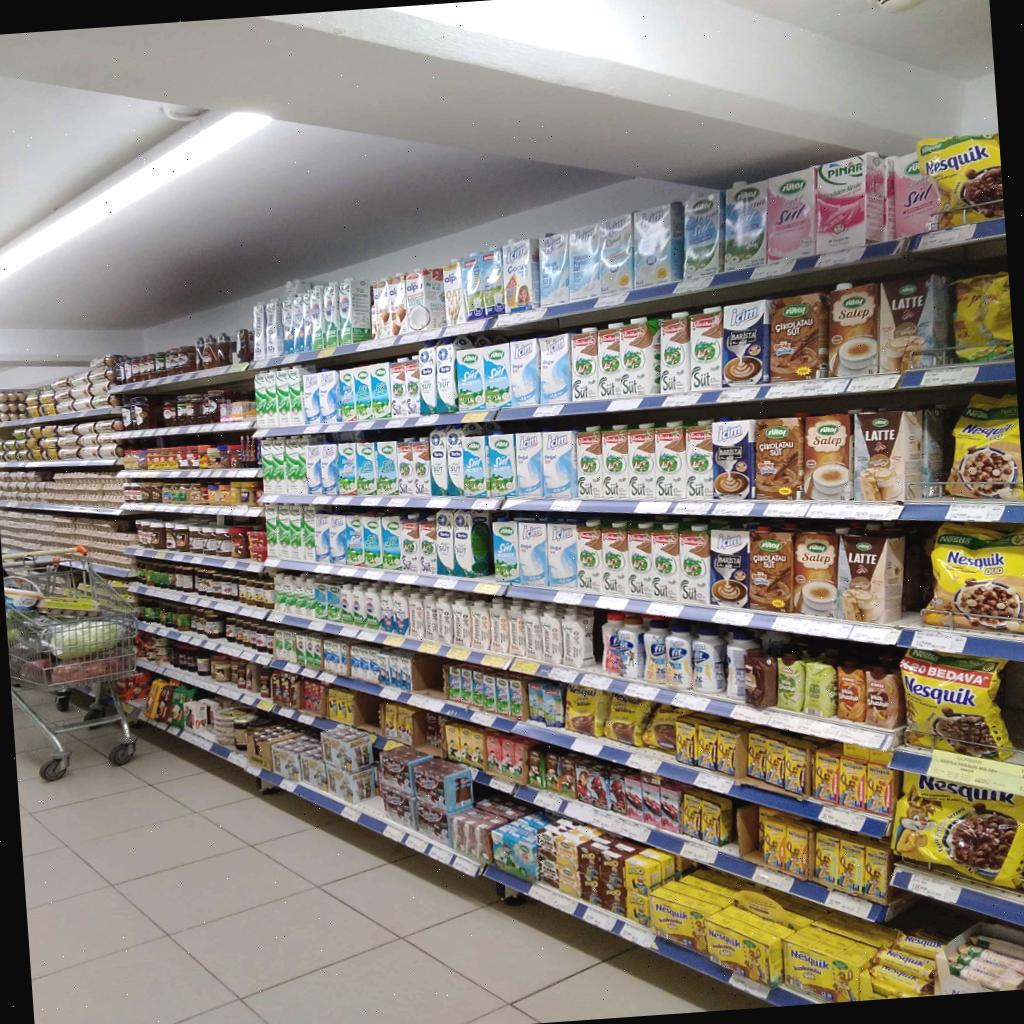price_tag: (826, 890, 872, 919), (530, 885, 577, 913), (604, 816, 652, 842), (728, 971, 770, 1000), (818, 806, 865, 831), (494, 308, 545, 330), (843, 502, 902, 520), (752, 867, 794, 892), (849, 625, 900, 645), (620, 920, 655, 949), (750, 258, 796, 280), (816, 247, 864, 268), (848, 374, 900, 393), (590, 591, 630, 614), (408, 691, 444, 716), (681, 840, 718, 864), (583, 907, 618, 931), (800, 619, 846, 637), (673, 274, 714, 294), (566, 801, 600, 823), (672, 692, 709, 712), (763, 501, 809, 517), (718, 386, 761, 403), (772, 614, 808, 633), (627, 753, 663, 772), (713, 609, 753, 626), (731, 704, 766, 723), (810, 378, 849, 395), (451, 855, 481, 877), (534, 791, 564, 812), (593, 291, 628, 309), (571, 737, 604, 756), (662, 392, 703, 407), (672, 501, 712, 516), (382, 821, 406, 846), (625, 683, 659, 700), (806, 503, 842, 519), (424, 494, 456, 512), (468, 496, 500, 514), (647, 602, 682, 618), (474, 576, 502, 596), (395, 330, 432, 345), (578, 674, 612, 690), (463, 316, 488, 337), (427, 845, 454, 864), (549, 666, 577, 684), (354, 418, 378, 438), (607, 397, 641, 411), (394, 570, 420, 588), (511, 658, 540, 674), (442, 321, 464, 342), (489, 777, 516, 794), (480, 654, 511, 668), (406, 835, 429, 853), (551, 499, 582, 512), (471, 711, 497, 726), (553, 592, 583, 605), (335, 494, 356, 512), (534, 404, 563, 417), (447, 646, 471, 661), (462, 411, 492, 423), (378, 682, 400, 698), (410, 414, 438, 426), (340, 806, 361, 822), (358, 338, 376, 356), (302, 422, 325, 436), (310, 618, 333, 632), (364, 567, 384, 583), (279, 353, 303, 366), (324, 421, 347, 434), (314, 493, 335, 507), (315, 562, 333, 578), (386, 416, 406, 430), (340, 564, 360, 578), (434, 577, 457, 589), (279, 779, 298, 793), (418, 642, 440, 654), (385, 634, 405, 647), (377, 336, 395, 350), (262, 555, 280, 569), (318, 346, 337, 359), (387, 496, 409, 507), (340, 623, 356, 638), (364, 495, 382, 508), (321, 668, 334, 686), (303, 664, 318, 679), (251, 358, 269, 370), (268, 610, 286, 622), (298, 713, 315, 725), (284, 660, 301, 672), (254, 427, 272, 438), (362, 628, 372, 644), (263, 492, 278, 502)
product: (878, 274, 953, 373), (783, 926, 876, 1003), (706, 904, 792, 986), (816, 153, 885, 254), (853, 411, 924, 501), (837, 533, 904, 624), (769, 293, 828, 383), (828, 284, 879, 376), (885, 153, 938, 239), (768, 167, 815, 262), (633, 202, 684, 289), (754, 417, 805, 501), (804, 414, 853, 501), (722, 299, 770, 387), (412, 757, 474, 822), (793, 532, 839, 618), (651, 887, 710, 952), (724, 181, 767, 270), (749, 527, 794, 612), (491, 818, 547, 882), (683, 192, 724, 278), (711, 420, 755, 499), (451, 805, 508, 862), (710, 527, 750, 607), (620, 319, 660, 396), (379, 745, 436, 798), (597, 215, 634, 295), (690, 307, 723, 389), (678, 523, 711, 604), (503, 239, 539, 312), (568, 224, 602, 300), (655, 423, 688, 500), (403, 269, 443, 332), (604, 695, 654, 745), (651, 524, 683, 602), (865, 665, 904, 729), (725, 629, 760, 700), (454, 512, 491, 578), (660, 313, 690, 393), (542, 431, 577, 498), (446, 428, 480, 496), (539, 333, 572, 403), (508, 338, 541, 407), (539, 232, 569, 307), (323, 728, 373, 773), (693, 624, 726, 692), (566, 687, 611, 736), (273, 737, 322, 782), (628, 522, 657, 598), (685, 422, 713, 500), (338, 278, 371, 344), (546, 521, 577, 589), (577, 428, 606, 499), (602, 520, 629, 596), (602, 426, 630, 499), (628, 424, 655, 499), (596, 324, 623, 398), (572, 327, 599, 401), (481, 343, 511, 409), (517, 519, 546, 586), (577, 519, 603, 593), (327, 764, 375, 804), (665, 622, 693, 690), (514, 432, 543, 497), (486, 434, 516, 496), (837, 661, 867, 723), (457, 348, 486, 412), (745, 650, 777, 708), (804, 662, 837, 717), (562, 608, 593, 666), (492, 518, 520, 582), (865, 759, 896, 815), (480, 248, 505, 317), (699, 797, 734, 846), (837, 838, 868, 893), (777, 652, 805, 712), (617, 618, 645, 678), (643, 705, 677, 753), (442, 260, 467, 324), (644, 621, 669, 685), (863, 844, 891, 901), (462, 435, 487, 497), (416, 798, 450, 843), (436, 344, 458, 412), (381, 784, 415, 828), (461, 254, 484, 319), (716, 726, 747, 774), (812, 831, 839, 886), (784, 825, 812, 878), (813, 748, 839, 805), (522, 604, 548, 660), (838, 757, 866, 809), (413, 439, 438, 495), (759, 817, 785, 870), (601, 613, 623, 675), (418, 346, 438, 414), (782, 744, 809, 794), (367, 362, 391, 418), (303, 373, 329, 424), (384, 275, 406, 335), (764, 737, 789, 788), (429, 432, 449, 495), (436, 512, 456, 575), (375, 440, 398, 494), (304, 284, 323, 349), (747, 731, 771, 781), (599, 881, 629, 921), (400, 514, 421, 571), (596, 852, 630, 887), (275, 370, 297, 424), (541, 610, 563, 664), (640, 774, 662, 828), (680, 790, 704, 839), (363, 516, 386, 567), (321, 282, 339, 347), (285, 438, 306, 493), (260, 501, 280, 558), (380, 515, 401, 569), (301, 746, 326, 791), (693, 721, 716, 769), (624, 774, 647, 822), (489, 598, 509, 653), (675, 715, 697, 765), (660, 783, 682, 833), (319, 370, 340, 422), (356, 443, 377, 495), (302, 504, 320, 564), (371, 279, 389, 338), (265, 299, 283, 357), (293, 293, 311, 351), (276, 502, 294, 560), (506, 602, 526, 654), (626, 890, 652, 930), (420, 591, 441, 640), (288, 369, 307, 423), (354, 368, 374, 419), (471, 600, 491, 651), (556, 836, 584, 872), (338, 443, 357, 494), (258, 437, 275, 494), (320, 444, 339, 494), (542, 684, 564, 727), (254, 368, 270, 426), (396, 442, 414, 493), (404, 357, 420, 414), (306, 445, 325, 493), (315, 514, 334, 562), (452, 599, 471, 647), (329, 516, 348, 563), (628, 857, 652, 894), (274, 437, 289, 496), (291, 503, 306, 562), (421, 522, 438, 574), (587, 769, 609, 809), (407, 591, 426, 637), (299, 289, 313, 350), (389, 362, 405, 415), (557, 754, 576, 798), (339, 370, 356, 419), (469, 668, 489, 709), (561, 868, 583, 905), (348, 516, 364, 566), (578, 842, 599, 880), (525, 746, 544, 787), (608, 773, 626, 816), (436, 592, 451, 643), (380, 588, 397, 633), (575, 758, 592, 802), (364, 586, 381, 629), (472, 726, 488, 771), (514, 740, 530, 785), (253, 303, 265, 362), (282, 295, 294, 354), (266, 368, 278, 427), (486, 732, 502, 775), (404, 708, 422, 746), (527, 682, 544, 722), (538, 830, 560, 860), (325, 583, 342, 621), (584, 872, 604, 904), (393, 591, 408, 633), (313, 577, 328, 619), (508, 676, 523, 718), (544, 753, 560, 792), (460, 726, 476, 765), (502, 736, 516, 780), (352, 585, 366, 626), (284, 572, 297, 616), (495, 676, 510, 714), (481, 674, 496, 712), (339, 584, 353, 623), (274, 570, 287, 612), (295, 576, 308, 618), (540, 855, 556, 889), (377, 652, 393, 685), (306, 576, 319, 616), (447, 724, 461, 761), (424, 710, 438, 747), (399, 656, 414, 690), (448, 664, 461, 702), (370, 650, 383, 688), (462, 664, 474, 704), (336, 686, 348, 726), (302, 676, 314, 714), (390, 654, 404, 686), (348, 642, 360, 679), (396, 706, 409, 740), (358, 644, 370, 680), (296, 633, 308, 668), (305, 634, 316, 672), (346, 690, 357, 728), (330, 640, 342, 673), (327, 687, 338, 721), (384, 703, 394, 738), (273, 674, 283, 706), (275, 628, 285, 658), (286, 629, 294, 664), (282, 676, 292, 704), (310, 678, 320, 706), (314, 636, 322, 670), (324, 639, 333, 669), (290, 682, 300, 708), (340, 642, 348, 674), (437, 713, 448, 726), (346, 605, 352, 622), (534, 548, 535, 548)
